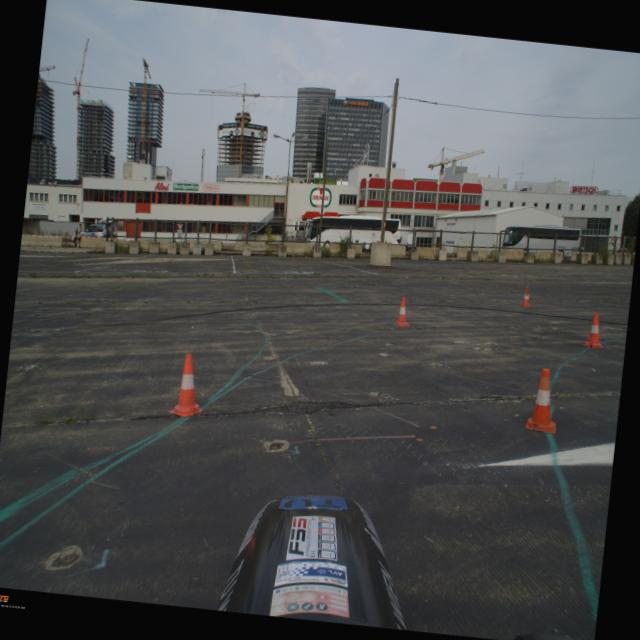orange_cone: (167, 351, 210, 420), (524, 366, 564, 434), (580, 311, 608, 349), (393, 296, 413, 327), (520, 286, 532, 308)
